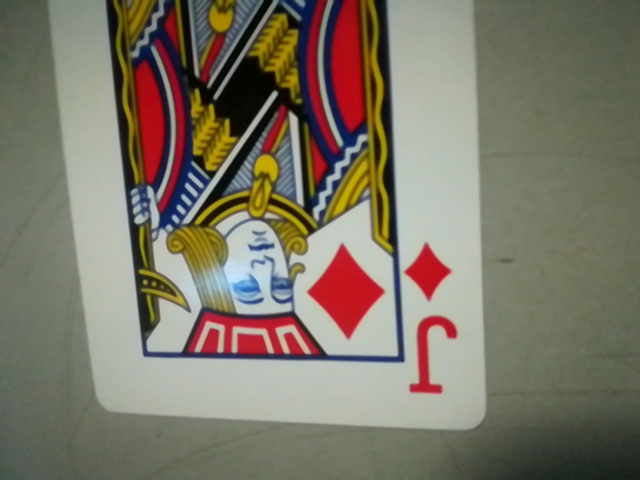fk j: (393, 233, 468, 406)
